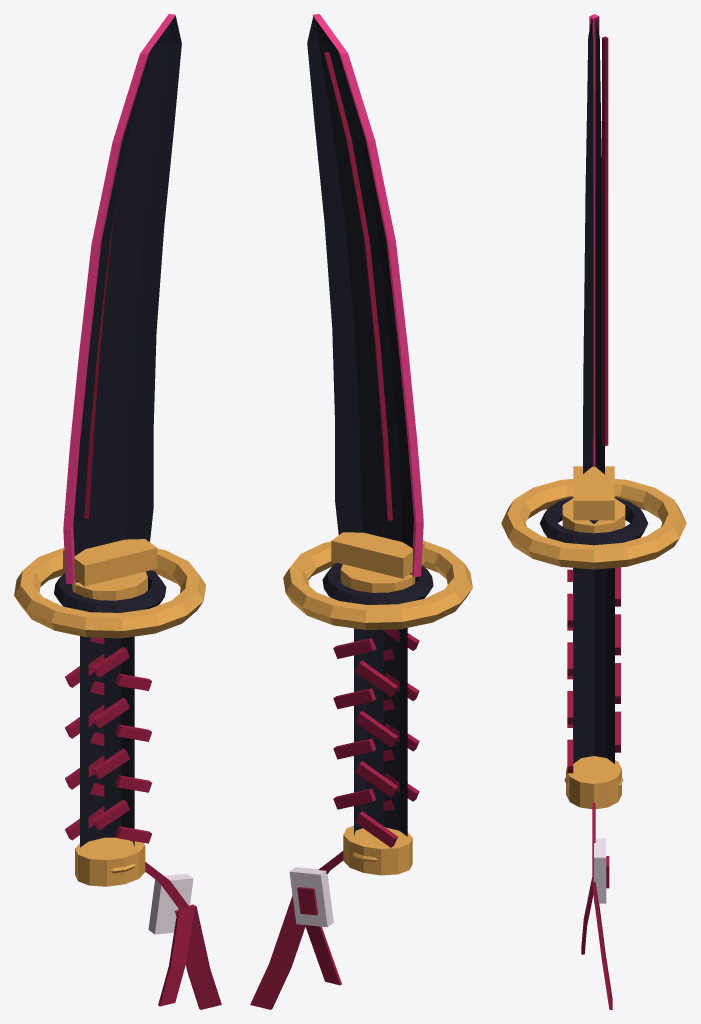
Rendered from KGB_WPN_Veilblade_Default_GAME_v02.obj.
The picture shows the model from 3 angles, left to right: view 1: azimuth 30°, elevation 25°; view 2: azimuth 150°, elevation 25°; view 3: azimuth 270°, elevation 25°; orthographic projection. The views are drawn at different scales.
Parts seen in each view (by area): view 1: GraphiteKatanaCore, DarkTsuka_Hilt, GoldTsubaOuter, MagentaVeilbladeEdge, PommelGold, GoldBladeCollar, BlackTsubaInner, RedTasselA, RedTasselB, IvoryFoxOmamori, GuardHub, CrimsonInnerCut (+5 smaller); view 2: GraphiteKatanaCore, GoldTsubaOuter, DarkTsuka_Hilt, MagentaVeilbladeEdge, GoldBladeCollar, CrimsonInnerCut, PommelGold, RedTasselA, BlackTsubaInner, IvoryFoxOmamori, GuardHub, RedTasselB (+8 smaller); view 3: DarkTsuka_Hilt, GoldTsubaOuter, GraphiteKatanaCore, CrimsonInnerCut, PommelGold, BlackTsubaInner, GoldBladeCollar, MagentaVeilbladeEdge, GuardHub, IvoryFoxOmamori, RedTasselA.
Part boxes in pixels (x1,y1,x2,y2): GraphiteKatanaCore: [73, 16, 181, 582]; DarkTsuka_Hilt: [80, 636, 134, 847]; GoldTsubaOuter: [14, 547, 206, 638]; MagentaVeilbladeEdge: [63, 14, 175, 584]; PommelGold: [75, 837, 145, 886]; GoldBladeCollar: [63, 539, 157, 586]; BlackTsubaInner: [54, 570, 166, 612]; RedTasselA: [175, 905, 221, 1009]; RedTasselB: [158, 904, 194, 1006]; IvoryFoxOmamori: [148, 873, 193, 934]; GuardHub: [72, 571, 147, 600]; CrimsonInnerCut: [84, 214, 115, 518]; GraphiteKatanaCore: [307, 16, 413, 574]; GoldTsubaOuter: [283, 540, 472, 629]; DarkTsuka_Hilt: [354, 628, 407, 836]; MagentaVeilbladeEdge: [312, 14, 423, 576]; GoldBladeCollar: [331, 532, 424, 578]; CrimsonInnerCut: [324, 52, 392, 520]; PommelGold: [343, 825, 412, 875]; RedTasselA: [250, 895, 305, 1009]; BlackTsubaInner: [322, 563, 433, 604]; IvoryFoxOmamori: [289, 867, 333, 927]; GuardHub: [340, 564, 415, 592]; RedTasselB: [305, 925, 341, 985]; DarkTsuka_Hilt: [573, 568, 614, 763]; GoldTsubaOuter: [501, 479, 686, 569]; GraphiteKatanaCore: [583, 18, 604, 523]; CrimsonInnerCut: [602, 36, 608, 446]; PommelGold: [566, 756, 621, 809]; BlackTsubaInner: [539, 497, 648, 545]; GoldBladeCollar: [573, 466, 614, 520]; MagentaVeilbladeEdge: [589, 14, 599, 466]; GuardHub: [562, 498, 625, 533]; IvoryFoxOmamori: [594, 838, 606, 903]; RedTasselA: [592, 884, 612, 1009].
Size of the model in its own units: 1.85 by 8.73 by 1.52.
